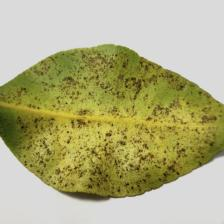canker: (44, 67, 179, 169)
